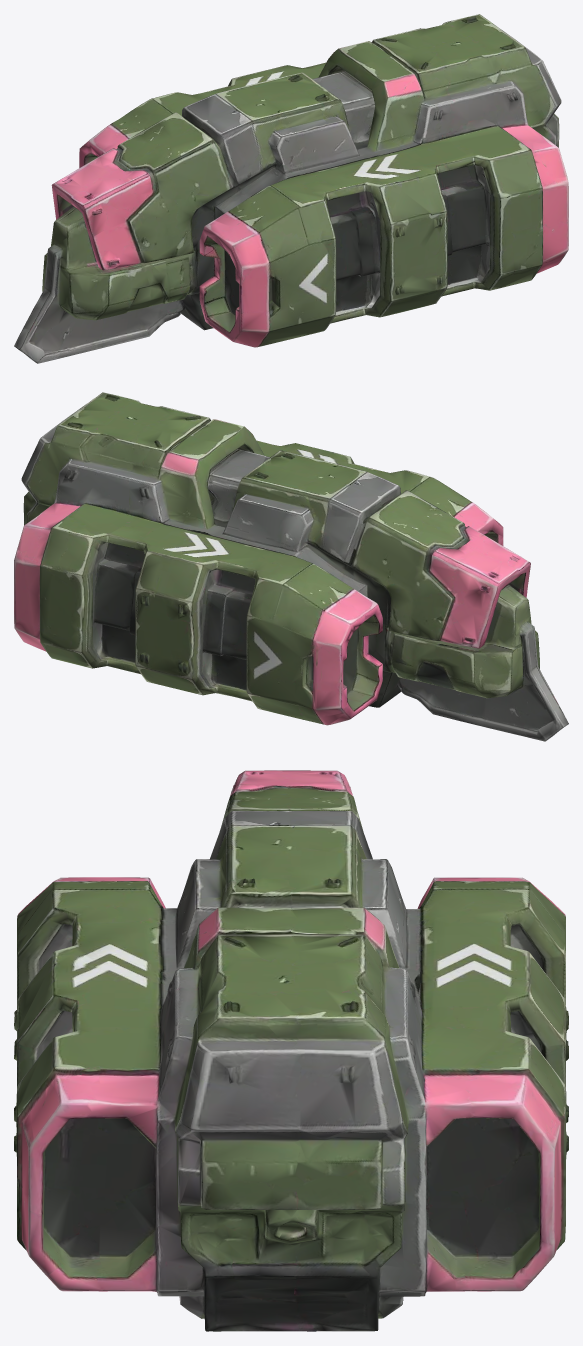
The model's file is m-ripclaw-body.glb.
3 views of the same model, one above another, from view 1: azimuth 30°, elevation 25°; view 2: azimuth 150°, elevation 25°; view 3: azimuth 270°, elevation 25° (orthographic). The views are drawn at different scales.
Bounding box in the file's own units: 1.9 × 0.7744 × 1.1.
1 material, 1 textured.
